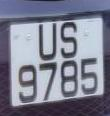5: (79, 56, 99, 97)
7: (35, 58, 60, 102)
8: (55, 59, 83, 98)
9: (15, 61, 39, 105)
S: (58, 16, 79, 62)
U: (34, 20, 60, 61)
